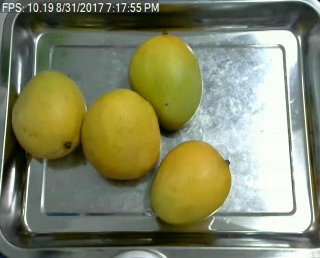Mango: (79, 88, 164, 180), (128, 32, 203, 132), (12, 69, 90, 160), (149, 140, 229, 223)
